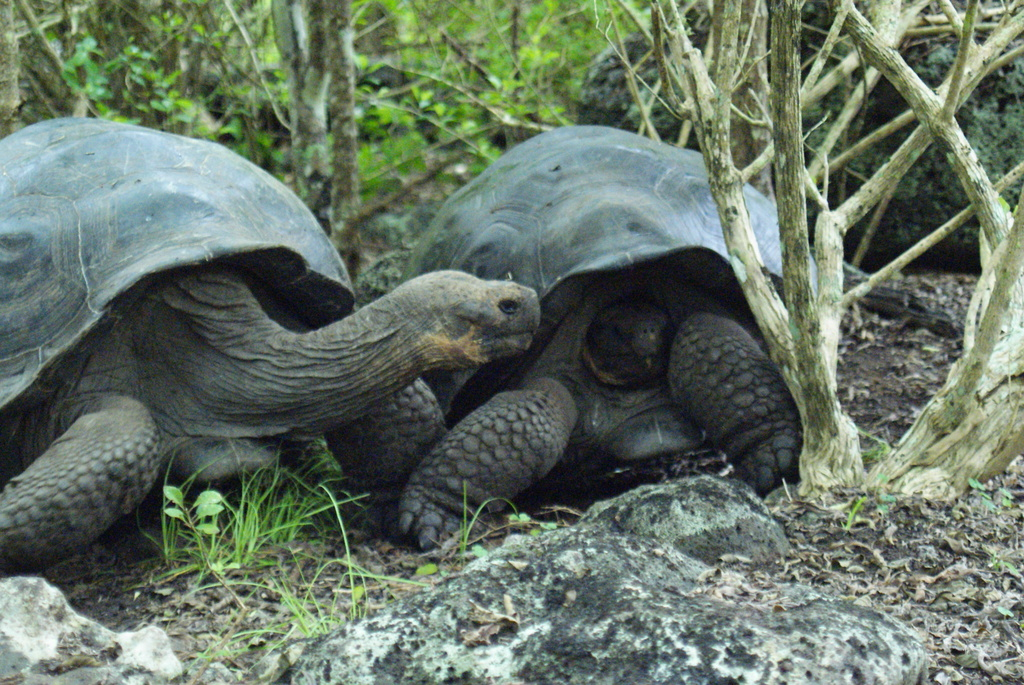Sea turtles: (0, 110, 542, 582), (391, 118, 806, 562)
